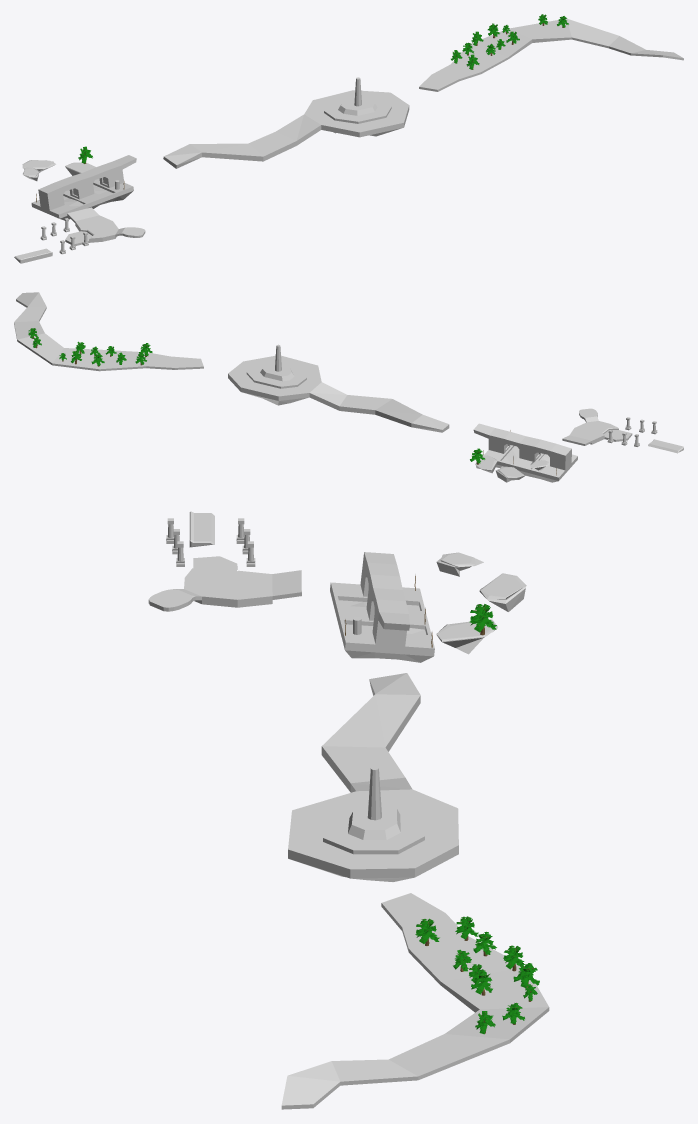
The model's file is level 1 - intro.fbx.
3 views of the same model, one above another, from view 1: azimuth 30°, elevation 25°; view 2: azimuth 150°, elevation 25°; view 3: azimuth 270°, elevation 25° (orthographic). The views are drawn at different scales.
Parts seen in each view (by area): view 1: Plane.003, Plane.004, Plane.002, Plane.001; view 2: Plane.003, Plane.004, Plane.002, Plane.001, Cube.001; view 3: Plane.003, Plane.004, Plane.002, Plane.001, Cube.001, Cube.
Part boxes in pixels (box(x1,y1,x2,y2)): Plane.003: box(163, 90, 409, 168); Plane.004: box(419, 18, 683, 91); Plane.002: box(31, 155, 136, 220); Plane.001: box(65, 207, 145, 245); Plane.003: box(228, 355, 449, 432); Plane.004: box(14, 292, 203, 371); Plane.002: box(473, 423, 577, 482); Plane.001: box(562, 408, 632, 445); Cube.001: box(495, 466, 524, 482); Plane.003: box(288, 673, 458, 881); Plane.004: box(281, 893, 549, 1109); Plane.002: box(330, 552, 434, 662); Plane.001: box(148, 556, 301, 611); Cube.001: box(479, 573, 526, 611); Cube: box(436, 619, 497, 654).
Size of the model in its own units: 16952 by 1568 by 4602.
